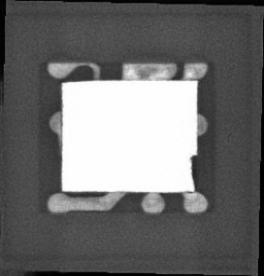DIE_BROKEN: (189, 153, 197, 185)
